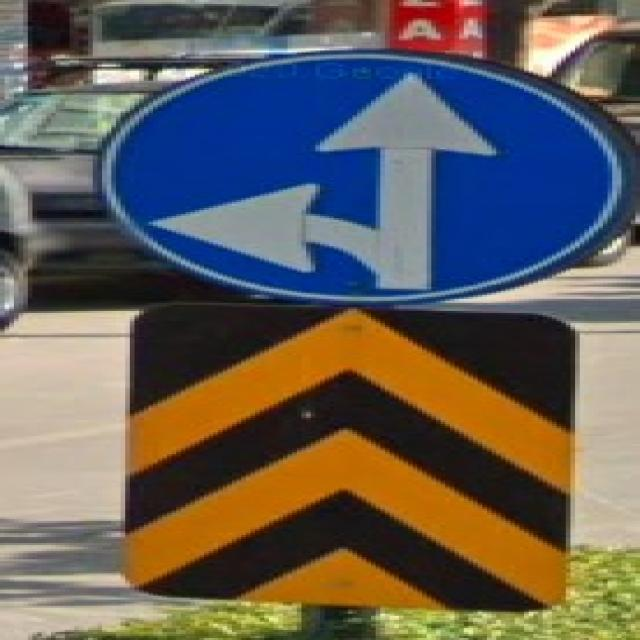Straight or Left: (96, 50, 639, 303)
